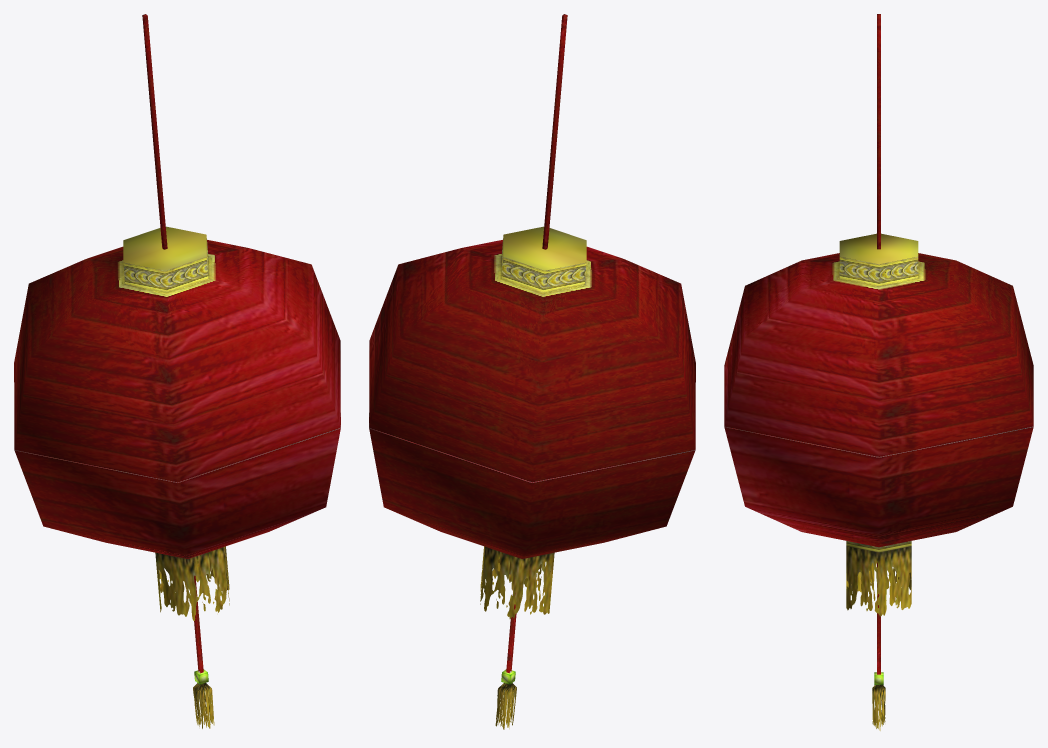
File: LampignongRed02_Mo.fbx
The picture shows the model from 3 angles, left to right: view 1: azimuth 30°, elevation 25°; view 2: azimuth 150°, elevation 25°; view 3: azimuth 270°, elevation 25°; orthographic projection. The views are drawn at different scales.
Parts seen in each view (by area): view 1: Sphere; view 2: Sphere; view 3: Sphere.
Boxes of the visible parts, box(x1,y1,x2,y2) form: Sphere: box(14, 14, 340, 728); Sphere: box(369, 14, 695, 729); Sphere: box(724, 14, 1033, 730).
Bounding box in the file's own units: 99.62 × 213 × 86.6.
